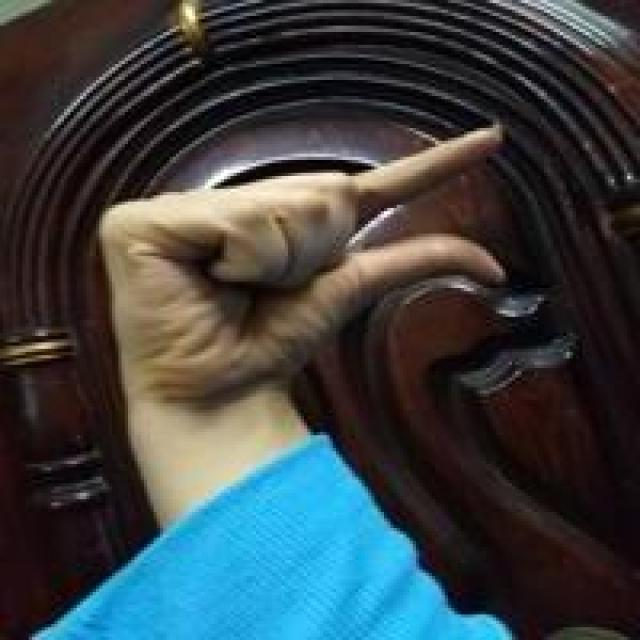G: (96, 115, 515, 410)
